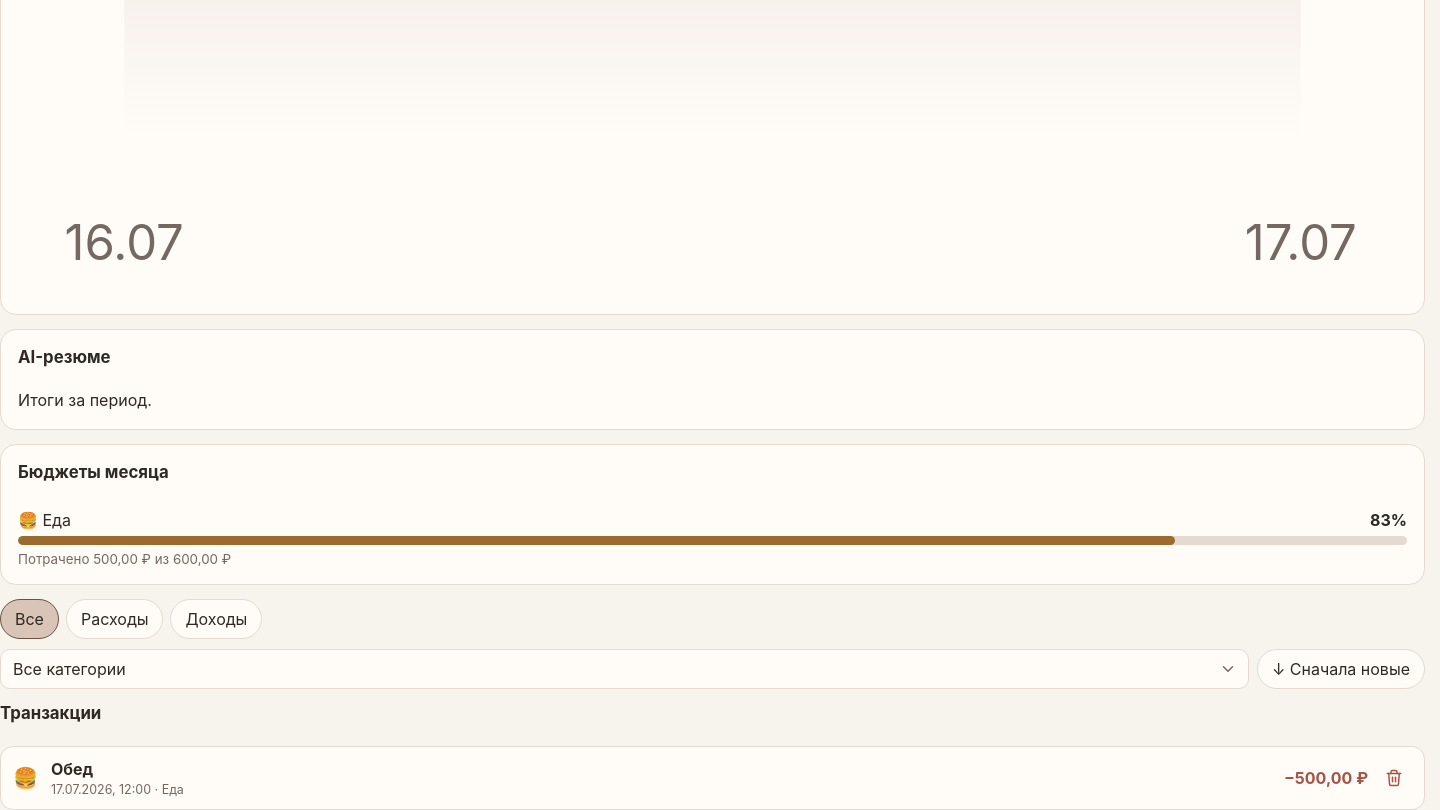
Test case: FinanceScreen › refreshes and retries GET once, but never replays DELETE after 401
(page scrolled)
Click the button named "Удалить транзакцию" at [1394, 778], box [1376,760,1412,796]
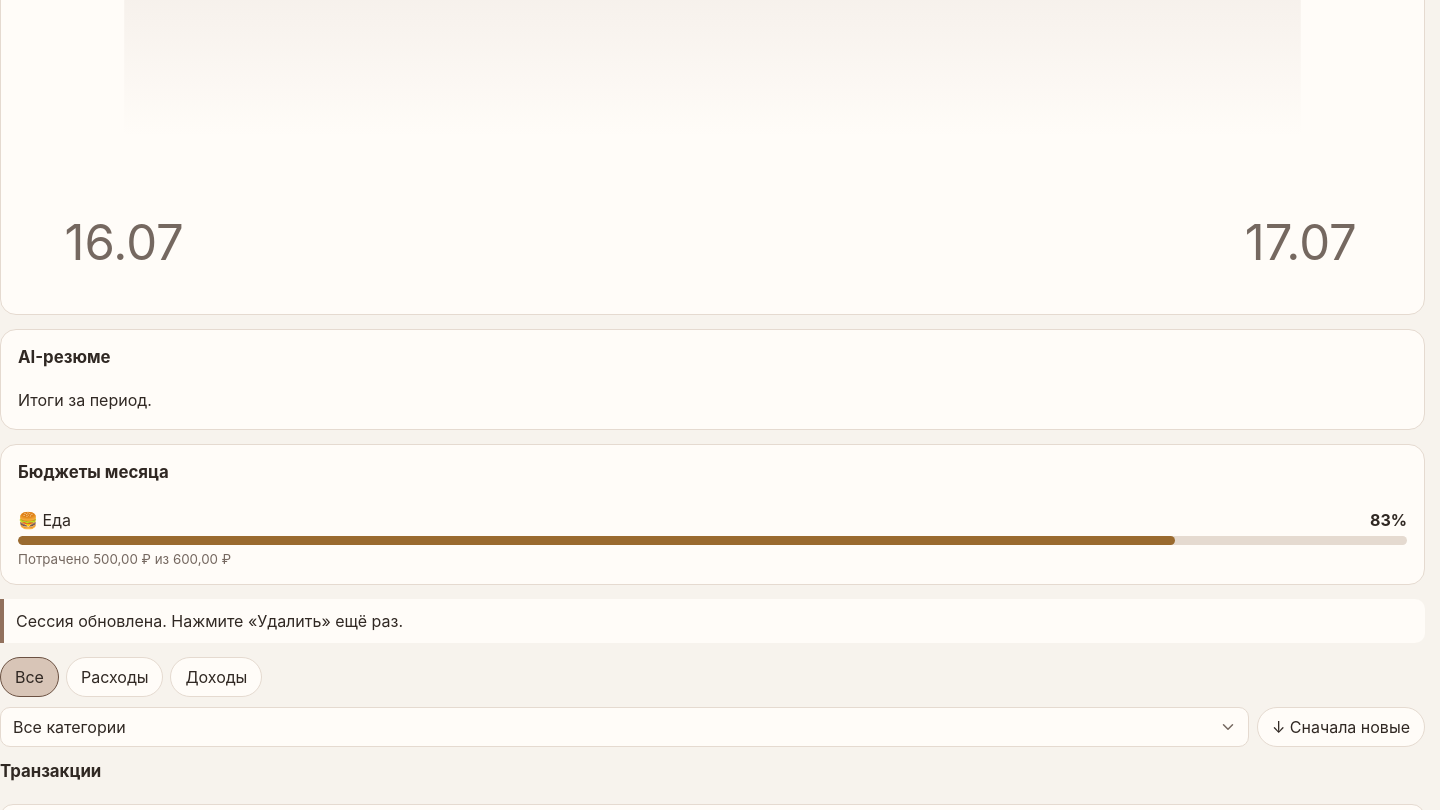
Expected: the text "Нажмите «Удалить» ещё раз" is shown, [16,610,403,630]
